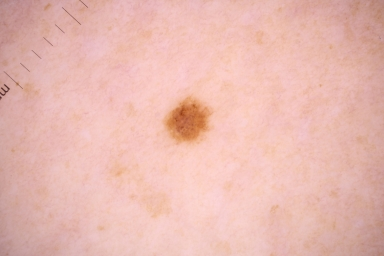melanoma: (167, 97, 216, 143)
